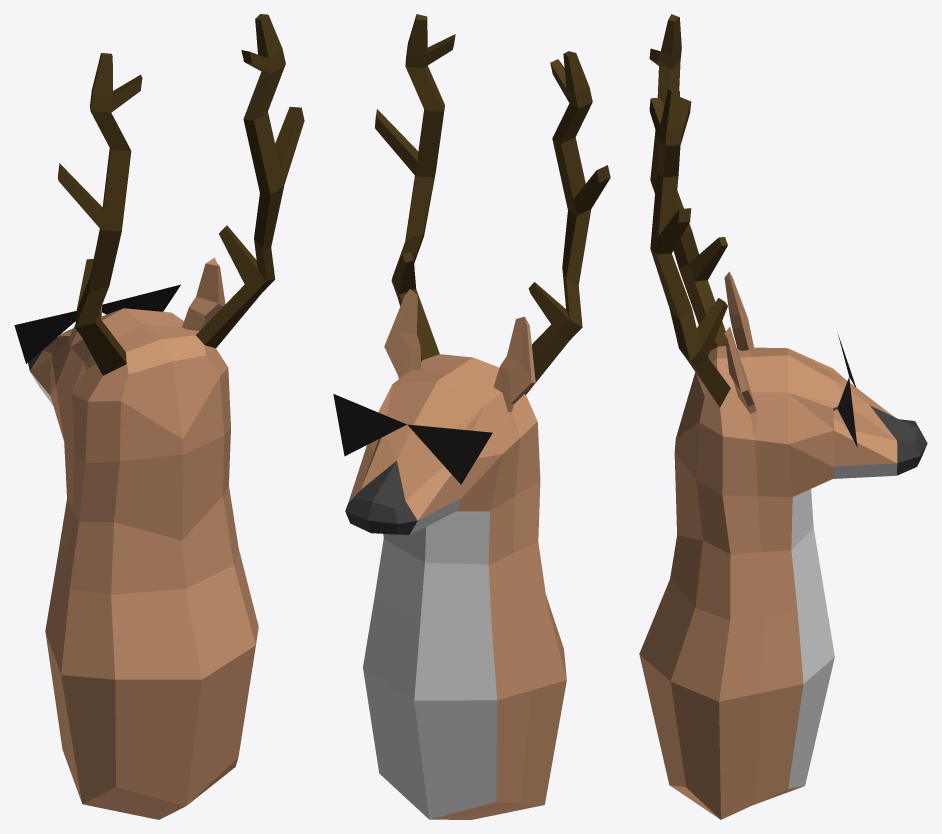
The model's file is deer.fbx.
The picture shows the model from 3 angles, left to right: view 1: azimuth 30°, elevation 25°; view 2: azimuth 150°, elevation 25°; view 3: azimuth 270°, elevation 25°; orthographic projection. The views are drawn at different scales.
Visible parts, largest first — view 1: Cube, Plane; view 2: Cube, Plane; view 3: Cube, Plane.
Boxes of the visible parts, x1,y1,x2,y2 form: Cube: (28, 14, 304, 819); Plane: (14, 284, 180, 363); Cube: (345, 14, 610, 819); Plane: (333, 394, 492, 484); Cube: (639, 14, 927, 819); Plane: (837, 334, 857, 447).
Bounding box in the file's own units: 465 × 1452 × 496.
